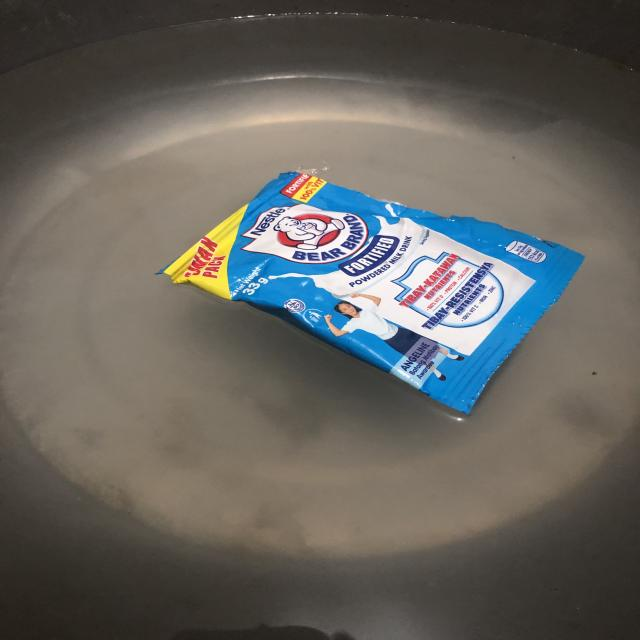Plastic Wrapper: (156, 172, 584, 414)
